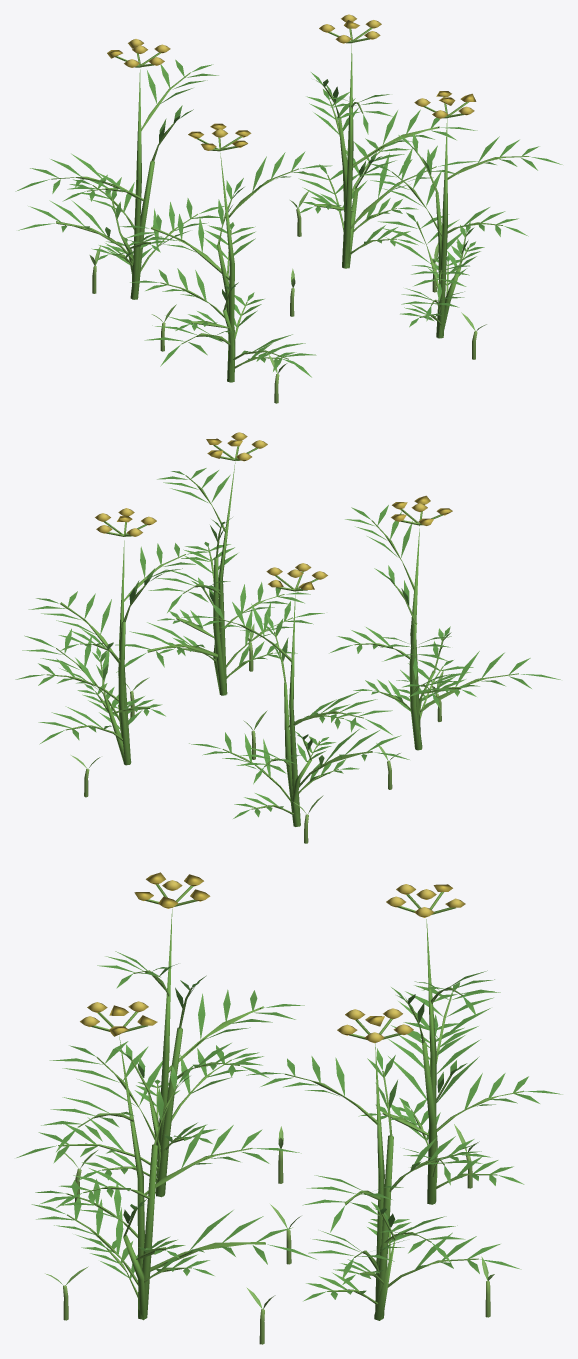
The model's file is crop_dill.glb.
3 views of the same model, one above another, from view 1: azimuth 30°, elevation 25°; view 2: azimuth 150°, elevation 25°; view 3: azimuth 270°, elevation 25° (orthographic). The views are drawn at different scales.
Parts seen in each view (by area): view 1: stage3, stage2, stage1, stage0; view 2: stage3, stage2, stage1, stage0; view 3: stage3, stage2, stage1, stage0.
Part boxes in pixels (bbox=[...]): stage3: bbox=[15, 14, 562, 382]; stage2: bbox=[62, 72, 528, 382]; stage1: bbox=[91, 152, 484, 381]; stage0: bbox=[89, 191, 486, 403]; stage3: bbox=[22, 432, 560, 824]; stage2: bbox=[15, 517, 473, 826]; stage1: bbox=[77, 577, 476, 826]; stage0: bbox=[71, 623, 443, 843]; stage3: bbox=[41, 872, 500, 1319]; stage2: bbox=[16, 975, 562, 1320]; stage1: bbox=[77, 1044, 524, 1320]; stage0: bbox=[45, 1124, 494, 1344].
Size of the model in its own units: 1.44 by 0.8171 by 1.29.
